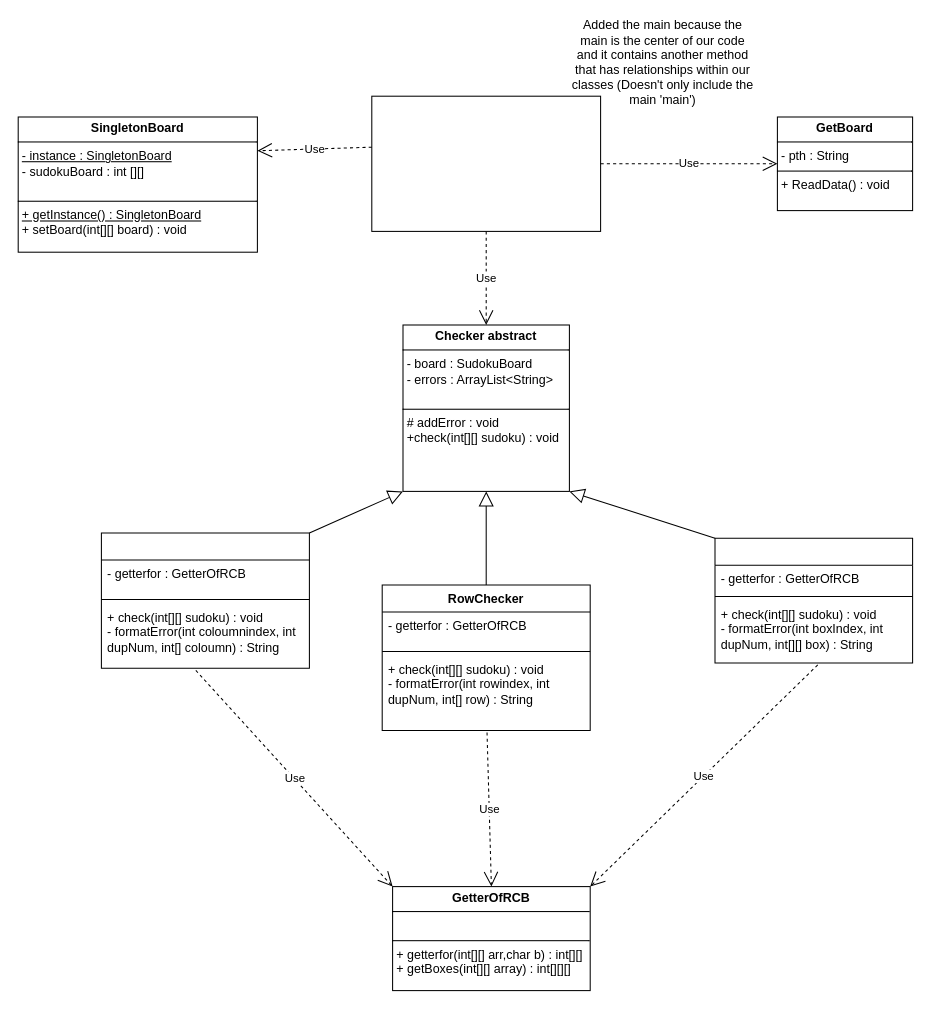
This 931x1009 diagram has some shape labels left out. Each missing label, with the box of its shape:
CheckerBox: (714, 537, 913, 663)
CheckerColoumn: (100, 532, 309, 668)
Mainone - modeZero(int [][] brd) : void + main(String[] args) : void: (371, 95, 601, 231)
